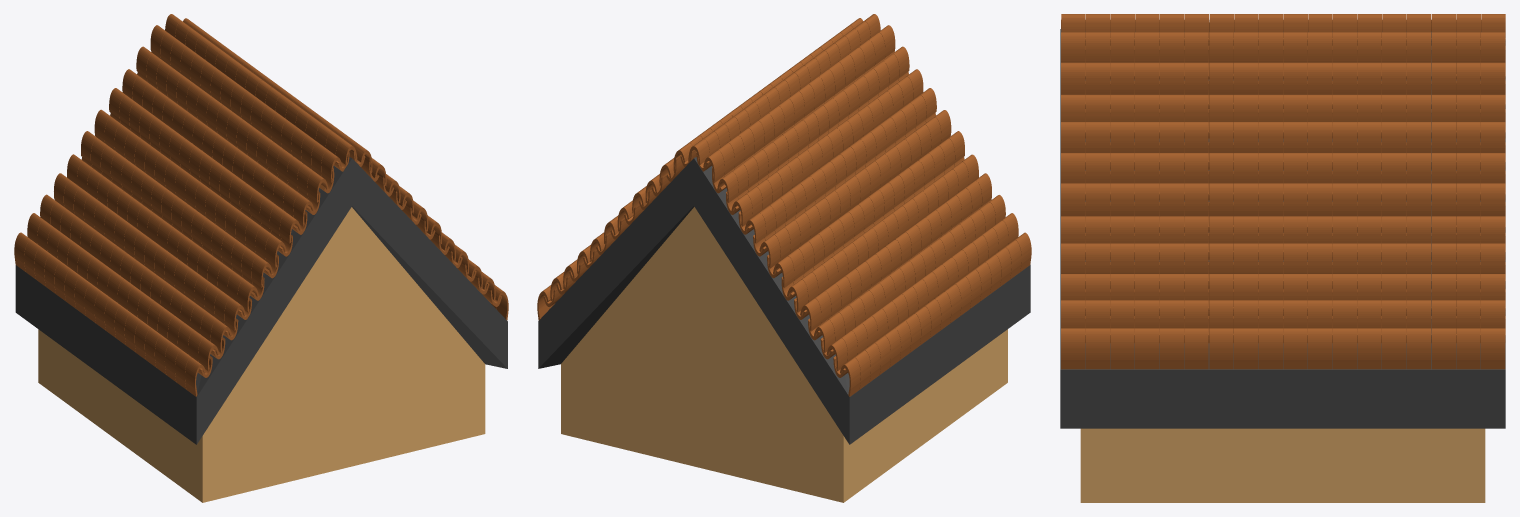
File: Building Top1.fbx
The picture shows the model from 3 angles, left to right: view 1: azimuth 30°, elevation 25°; view 2: azimuth 150°, elevation 25°; view 3: azimuth 270°, elevation 25°; orthographic projection. The views are drawn at different scales.
Parts seen in each view (by area): view 1: roof2; view 2: roof2; view 3: roof2.
Part boxes in pixels (x1,y1,x2,y2): roof2: [14, 14, 508, 502]; roof2: [537, 14, 1031, 502]; roof2: [1060, 14, 1505, 502].
Bounding box in the file's own units: 300 × 300 × 300.
